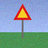sign: (14, 4, 32, 38)
